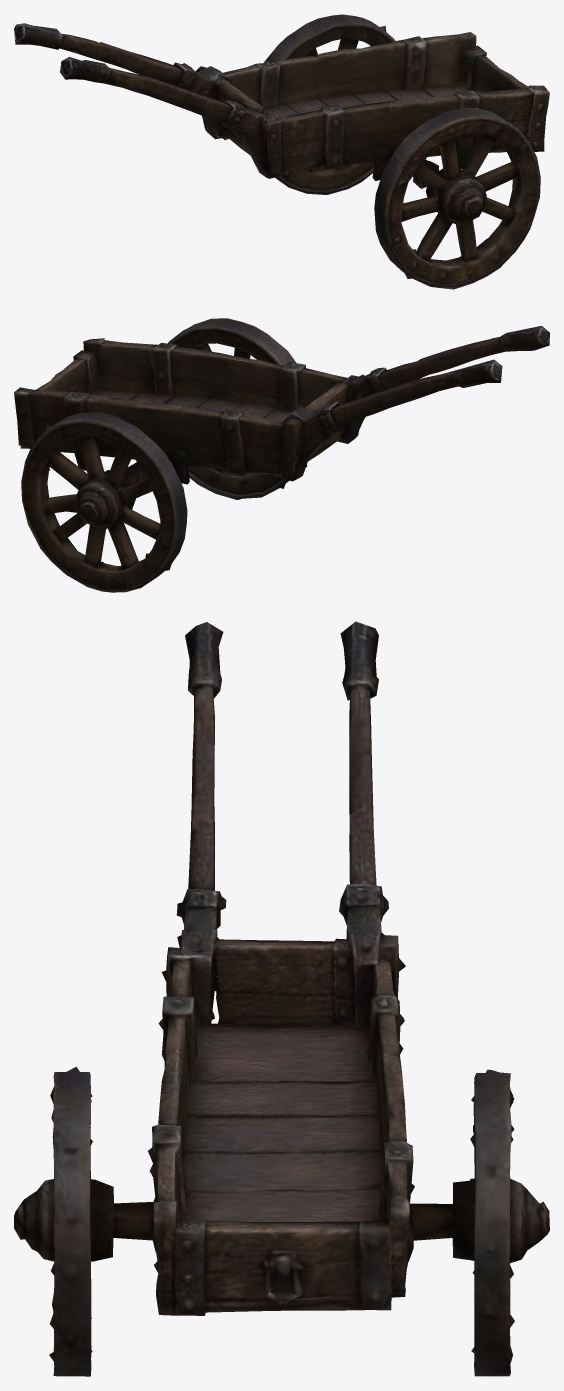
File: handcart.glb
3 views of the same model, one above another, from view 1: azimuth 30°, elevation 25°; view 2: azimuth 150°, elevation 25°; view 3: azimuth 270°, elevation 25° (orthographic). The views are drawn at different scales.
Visible parts, largest first — view 1: handcart; view 2: handcart; view 3: handcart.
Boxes of the visible parts, x1,y1,x2,y2 form: handcart: (14, 14, 549, 289); handcart: (14, 318, 549, 592); handcart: (14, 621, 549, 1376).
Size of the model in its own units: 1.8 by 1.02 by 1.07.
1 material, 1 textured.
